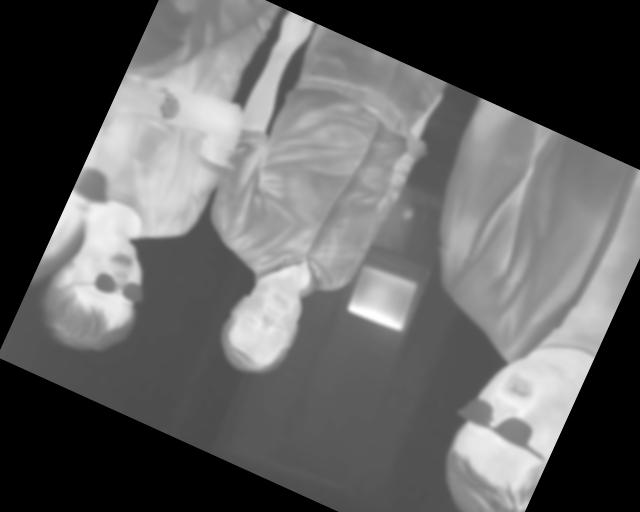face: (421, 336, 585, 512), (31, 219, 164, 369), (207, 265, 316, 387)
